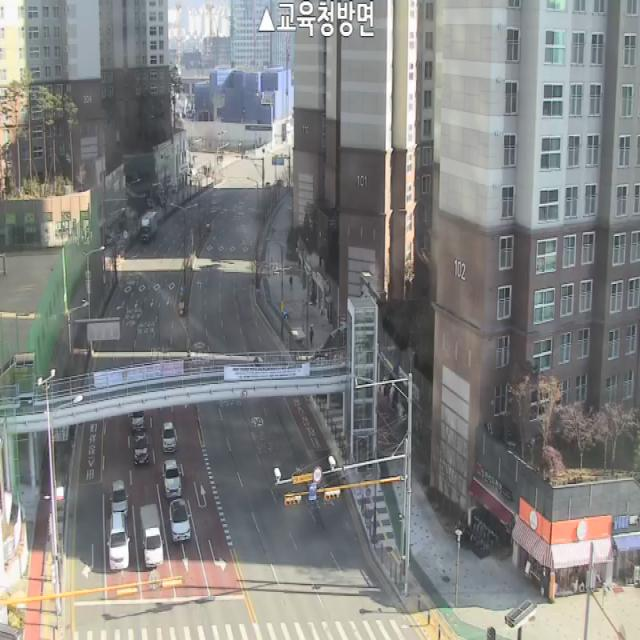Car: (140, 505, 164, 567), (108, 512, 130, 570), (170, 499, 192, 542), (109, 480, 129, 517), (163, 459, 182, 497), (134, 431, 149, 465), (163, 422, 176, 452), (132, 412, 144, 431), (310, 327, 314, 345), (290, 275, 292, 289)
Truck: (140, 212, 158, 241)
